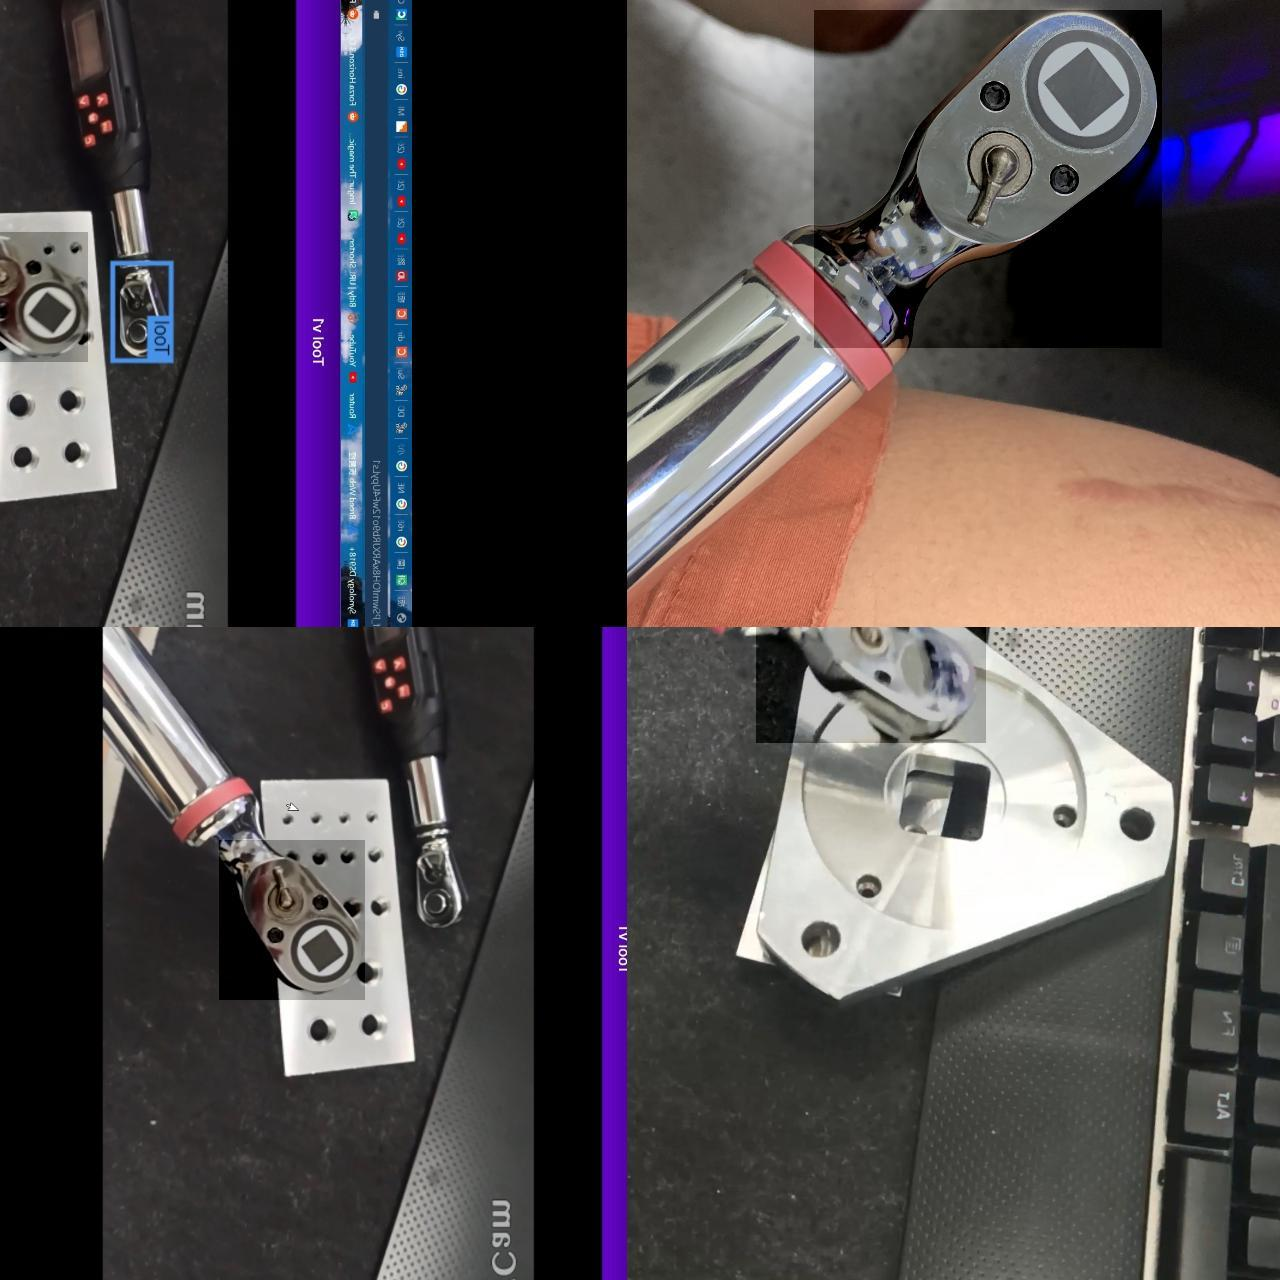Tool: (813, 11, 1160, 348), (755, 627, 985, 743), (218, 840, 365, 1000), (0, 232, 87, 362), (411, 840, 469, 931)
